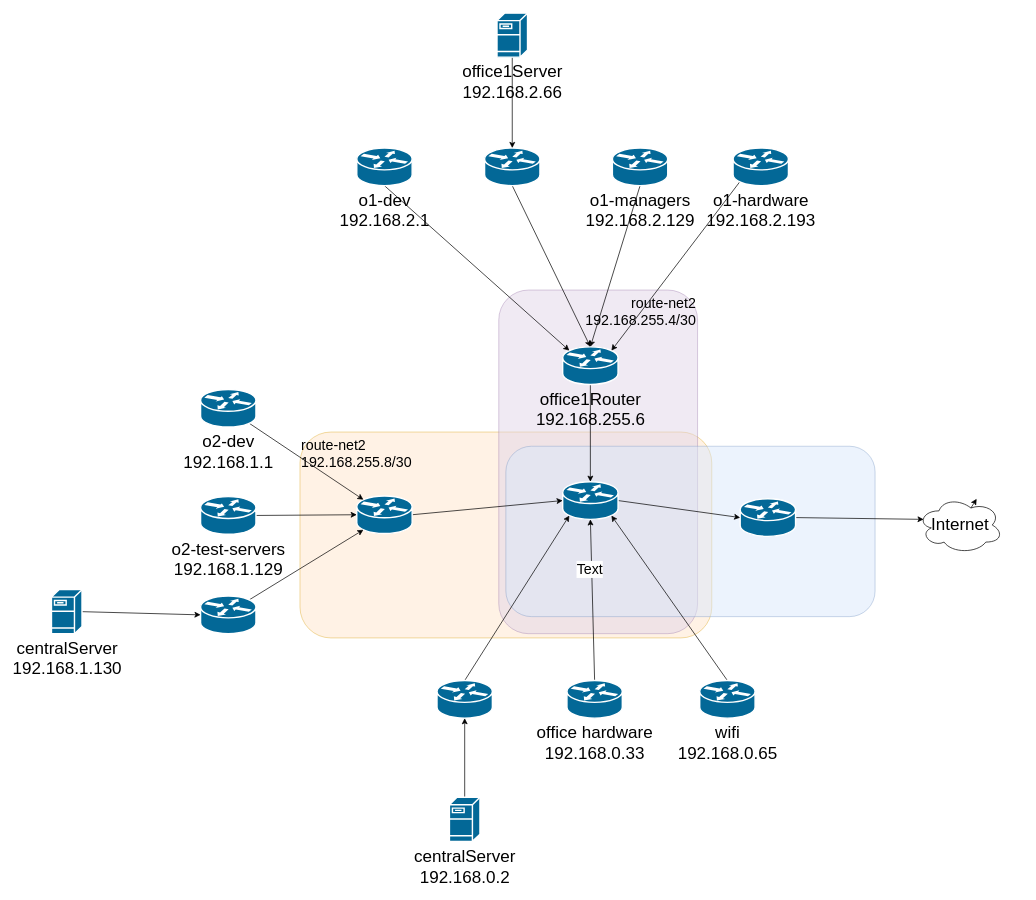
This 1036x900 diagram has some shape labels left out. The shapes that lost their labels are listed below. From the top down, each one's box as (x1, y1, x2, y2) in pixels, then its label:
(484, 147, 540, 186): o1-test-servers 192.168.2.65
(356, 495, 413, 534): office2Router 192.168.255.10
(562, 481, 618, 520): centralRouter 192.168.255.2 192.168.255.5 192.168.255.9
(739, 498, 796, 537): inetRouter 192.168.255.1
(505, 446, 875, 617): route-net1 192.168.255.0/30
(200, 595, 256, 634): o2-office-hardware 192.168.1.193
(436, 679, 493, 719): directors 192.168.0.1
